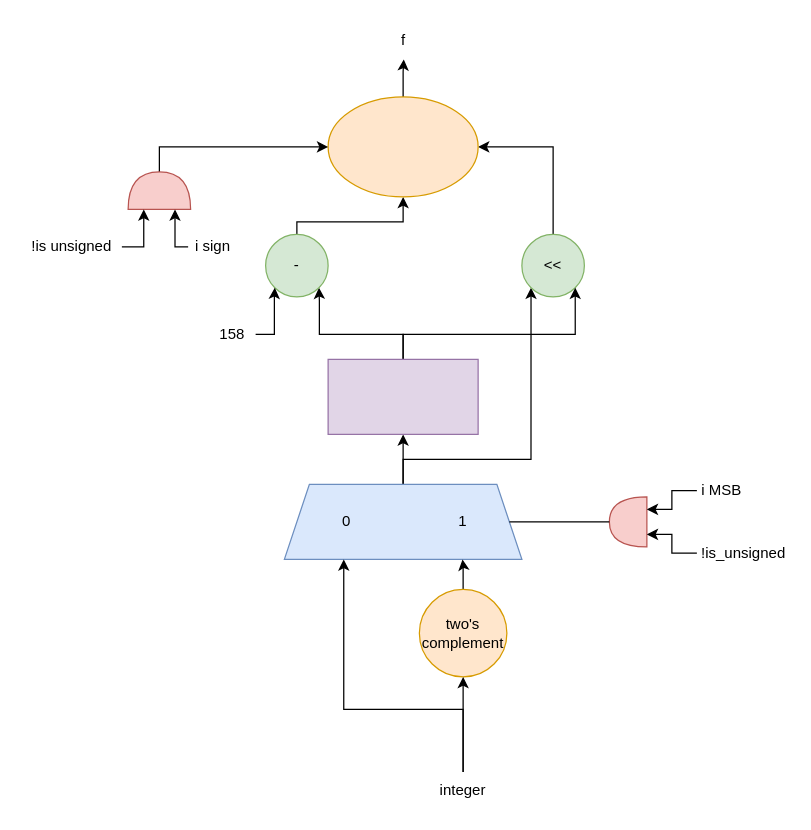
Some shapes in this 811 by 830 pixel diagram are drawn without their labels. Here are the shapes that lost their labels. From the top down, the box of each, then its label:
(327, 96, 478, 197): concatenate
(327, 358, 478, 434): Priority Encoder
